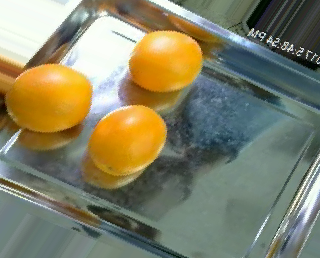Orange: (5, 62, 93, 133), (88, 103, 167, 176), (128, 29, 204, 91)
